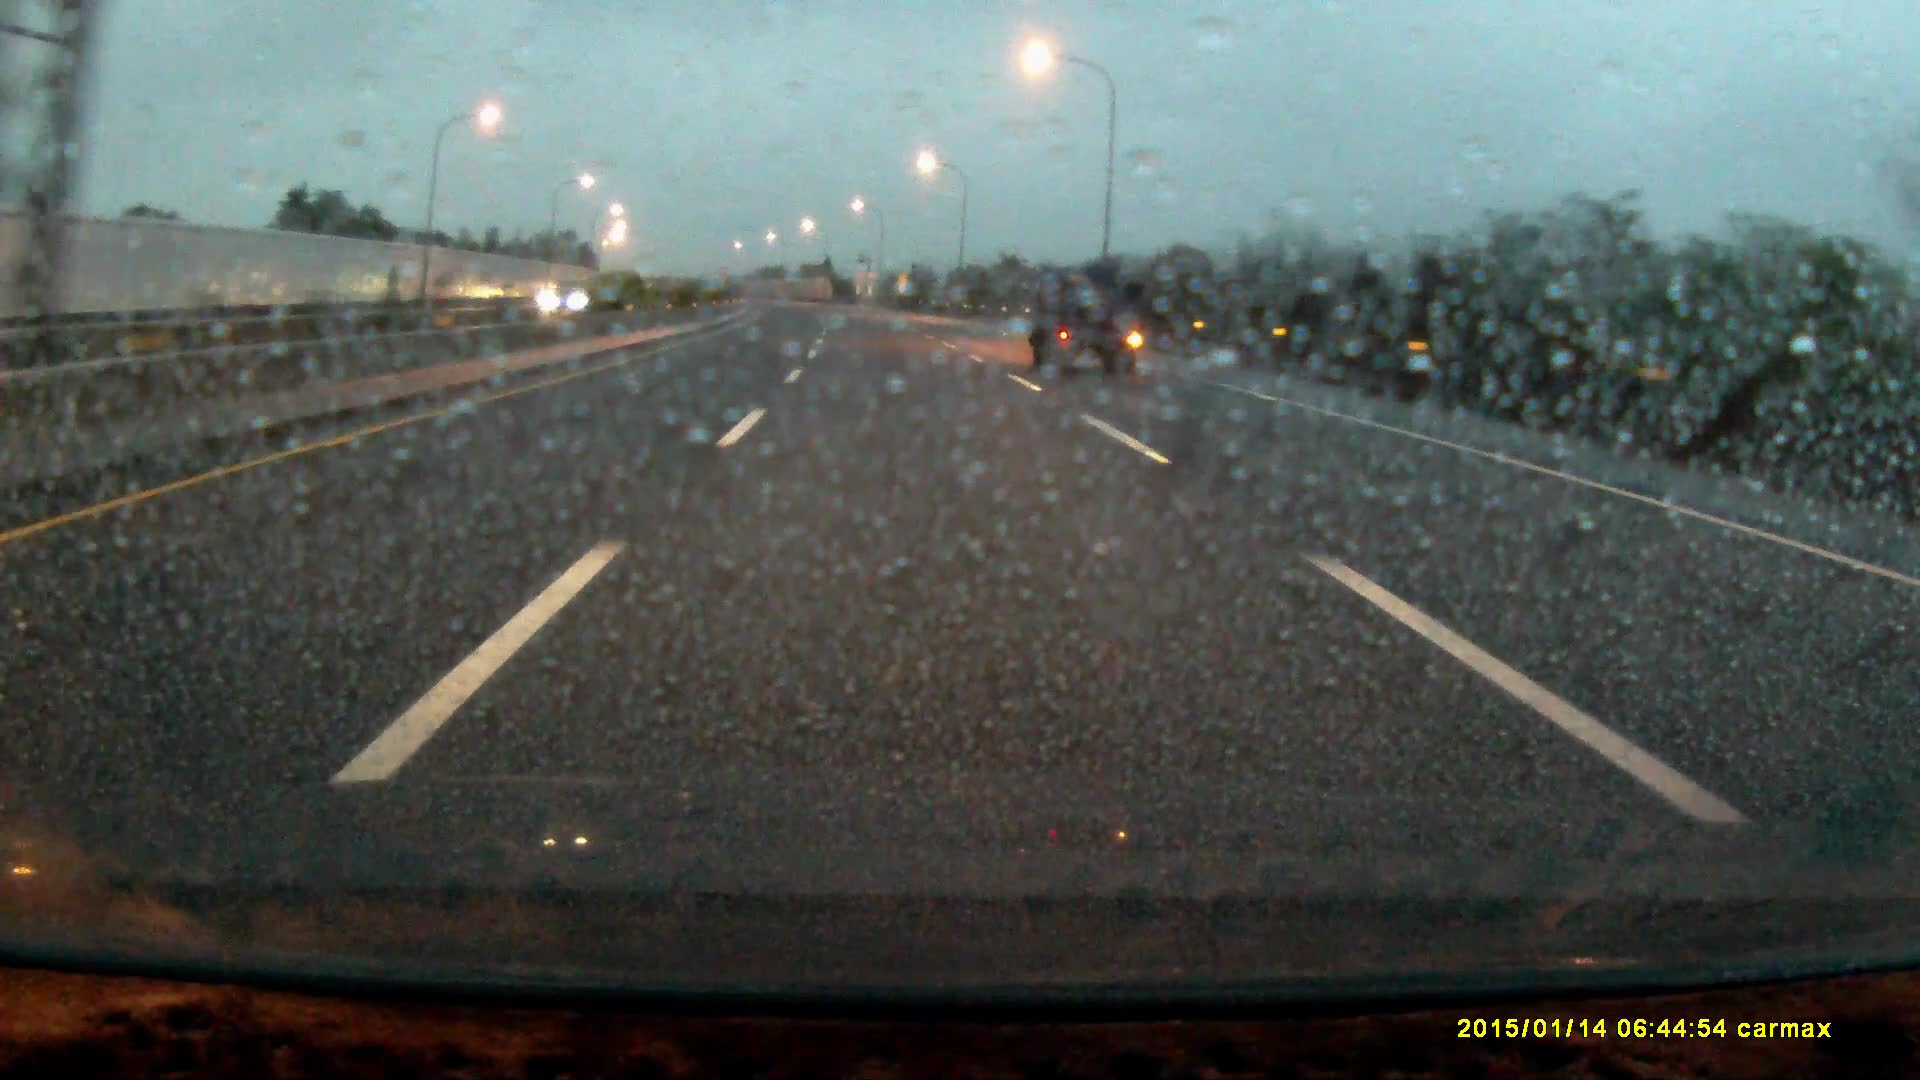vehicle: (1033, 272, 1139, 378), (545, 284, 596, 316)
